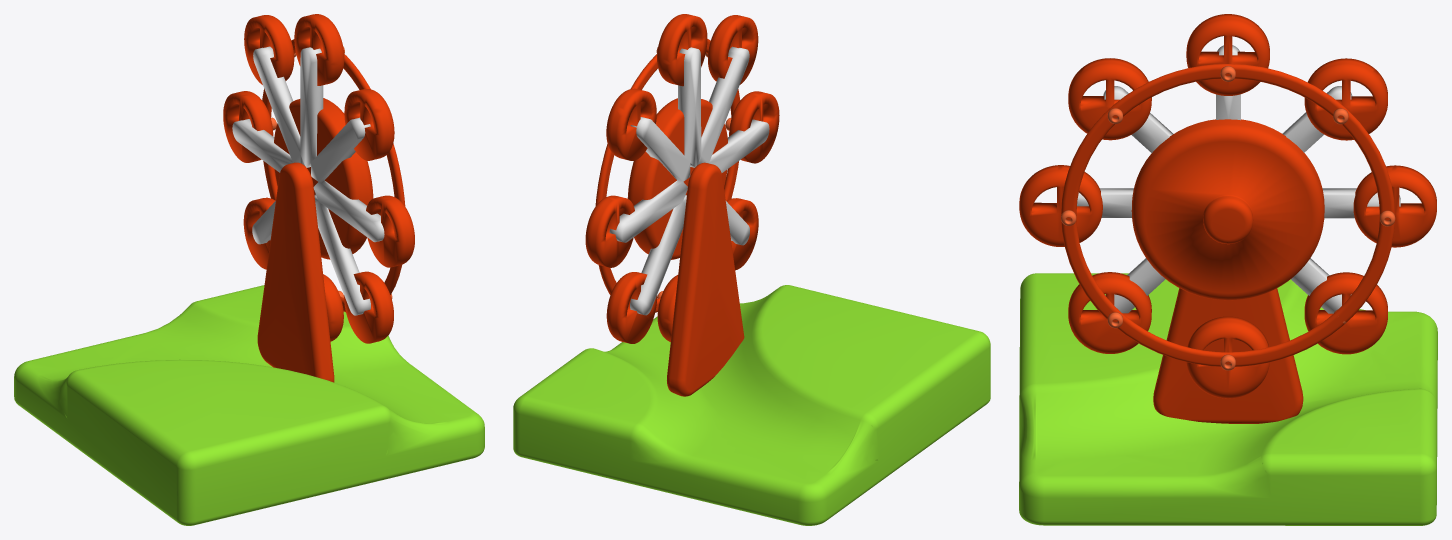
The model's file is city.glb.
The picture shows the model from 3 angles, left to right: view 1: azimuth 30°, elevation 25°; view 2: azimuth 150°, elevation 25°; view 3: azimuth 270°, elevation 25°; orthographic projection. The views are drawn at different scales.
Visible parts, largest first — view 1: Body31; view 2: Body31; view 3: Body31.
Part boxes in pixels (x1=…): Body31: x1=14, y1=14, x2=484, y2=525; Body31: x1=513, y1=14, x2=990, y2=525; Body31: x1=1019, y1=14, x2=1437, y2=525.
Size of the model in its own units: 0.0501 by 0.061 by 0.0501.
